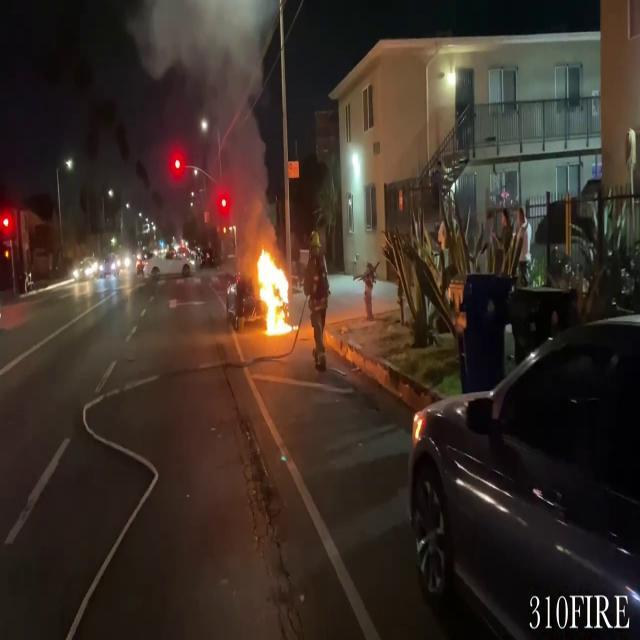Fire: (252, 240, 294, 338)
Smoke: (142, 0, 276, 228)
